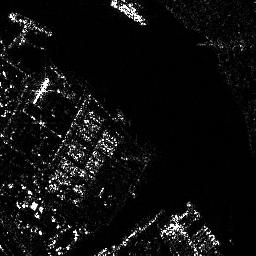ship: (7, 11, 52, 36), (109, 1, 148, 25)
